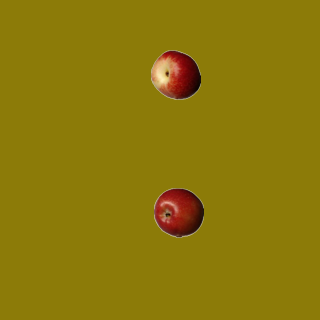Apple Braeburn: (153, 187, 203, 237)
Nectarine: (150, 49, 200, 99)
